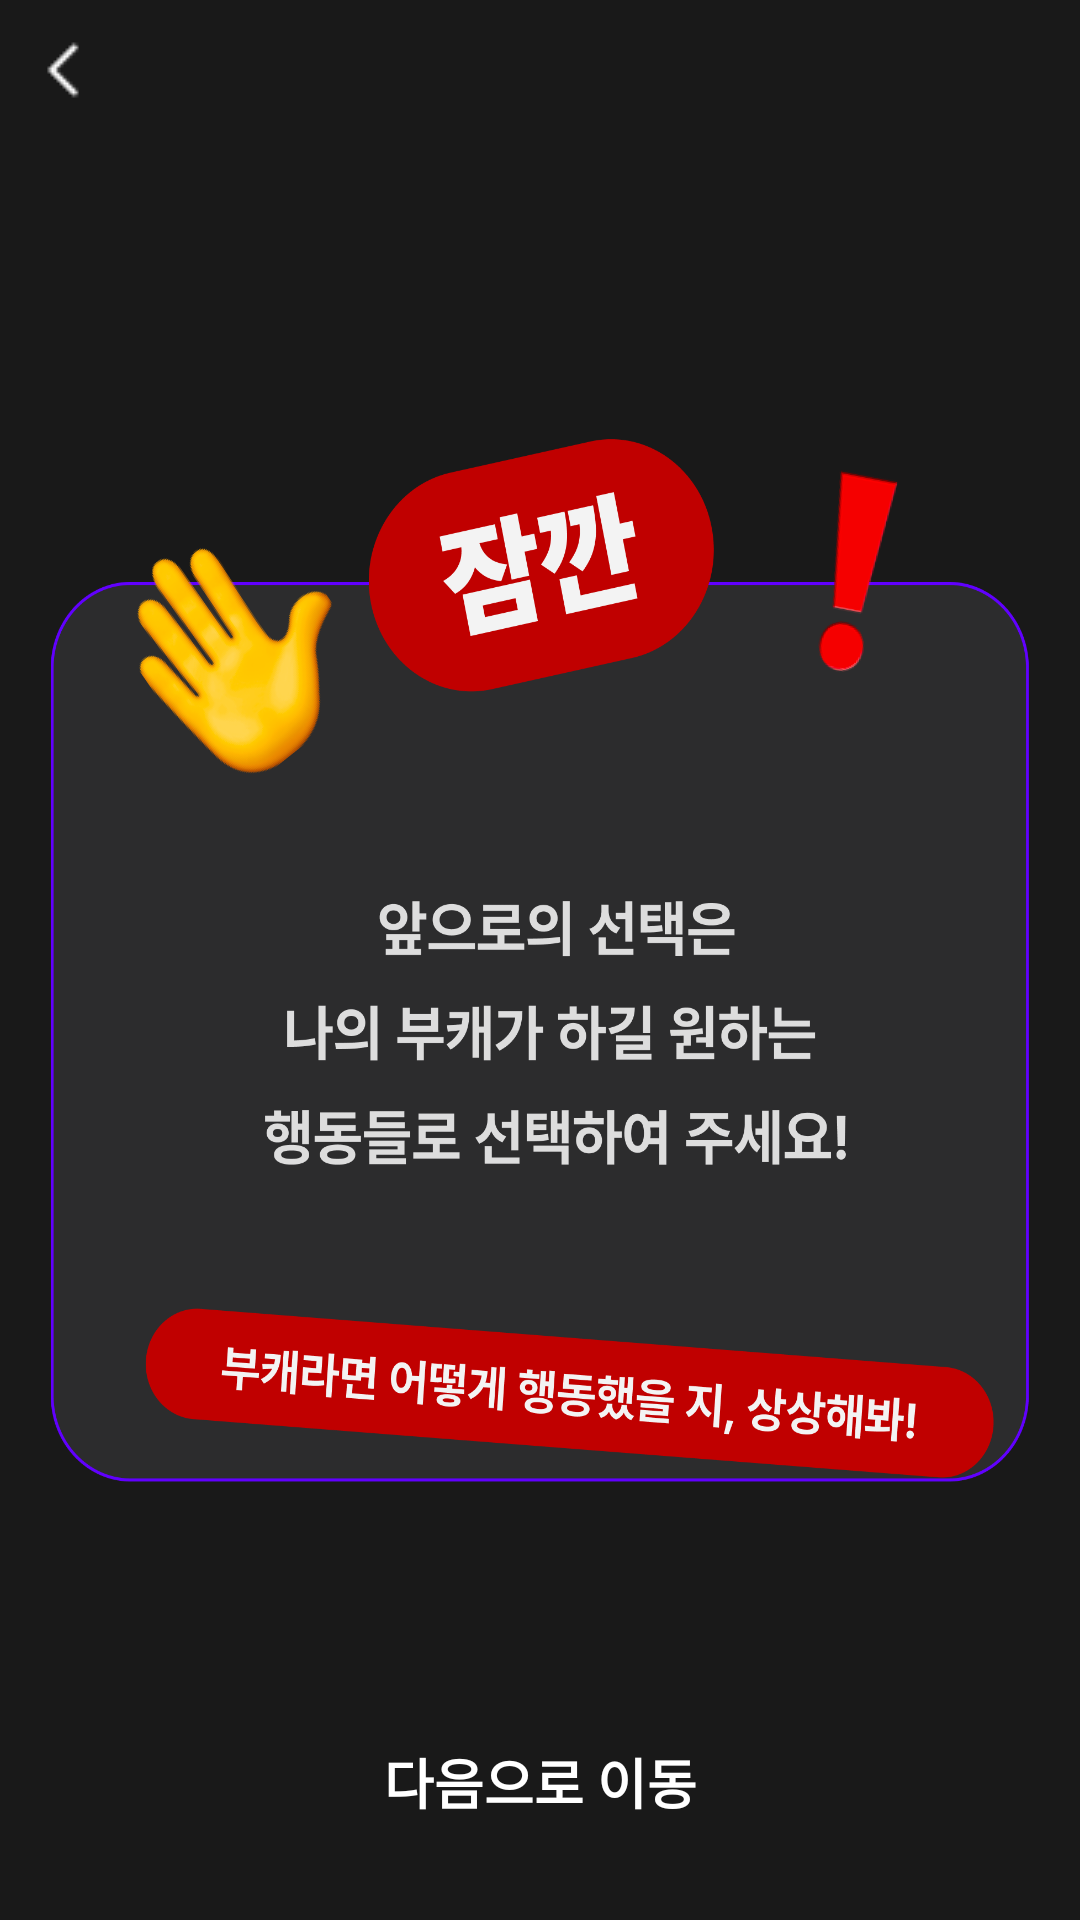

Icons on this 1080px x 1920px Android screen, each with the point to tap as point (x, y):
back: point (63, 70)
